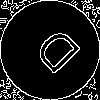D: (25, 25, 83, 83)
